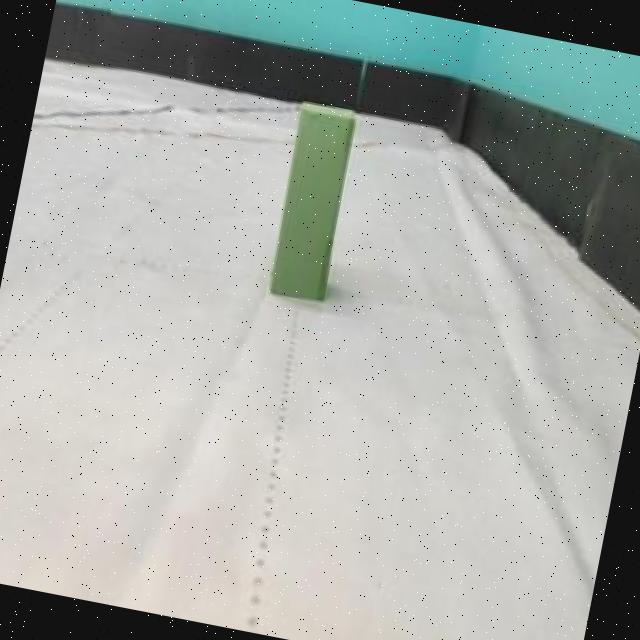greenbox: (261, 96, 366, 306)
